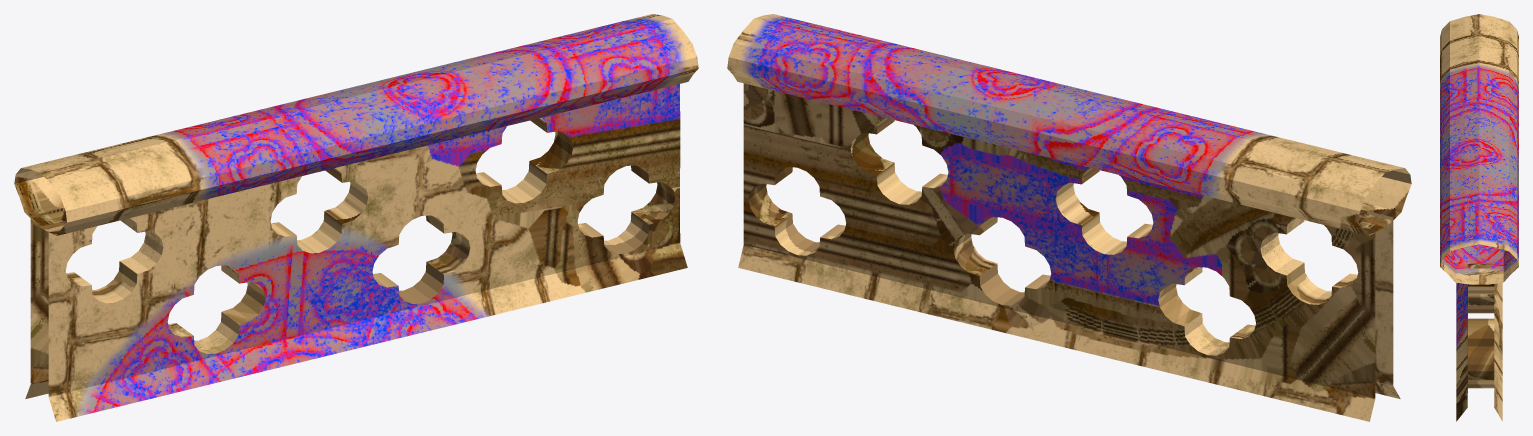
The model's file is SM_Valla2.fbx.
The picture shows the model from 3 angles, left to right: view 1: azimuth 30°, elevation 25°; view 2: azimuth 150°, elevation 25°; view 3: azimuth 270°, elevation 25°; orthographic projection. The views are drawn at different scales.
Parts seen in each view (by area): view 1: SM_Valla2; view 2: SM_Valla2; view 3: SM_Valla2.
Part boxes in pixels (x1=…): SM_Valla2: x1=14, y1=14, x2=698, y2=421; SM_Valla2: x1=727, y1=14, x2=1411, y2=421; SM_Valla2: x1=1440, y1=14, x2=1518, y2=421.
Size of the model in its own units: 300 by 108 by 43.42.
